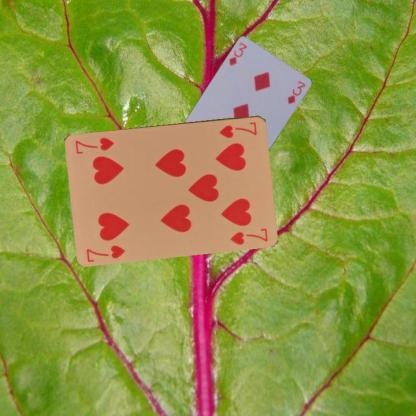3d: (226, 40, 249, 67)
7h: (84, 242, 126, 263), (217, 119, 259, 139)
